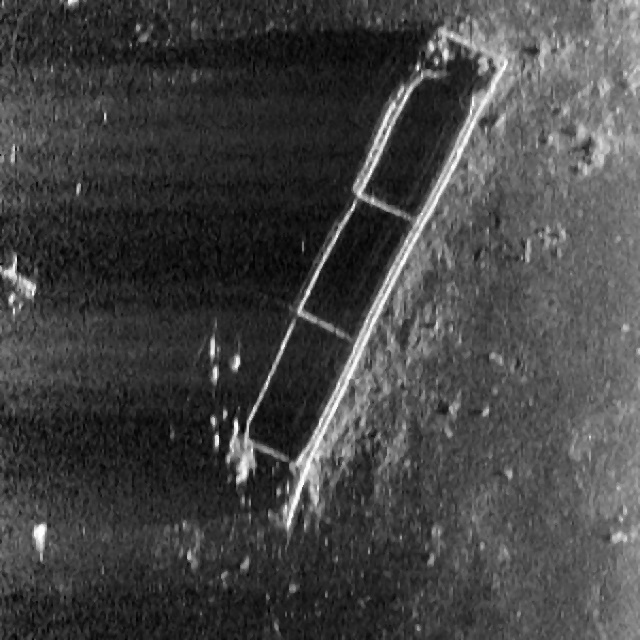Ship: (202, 15, 522, 558)
